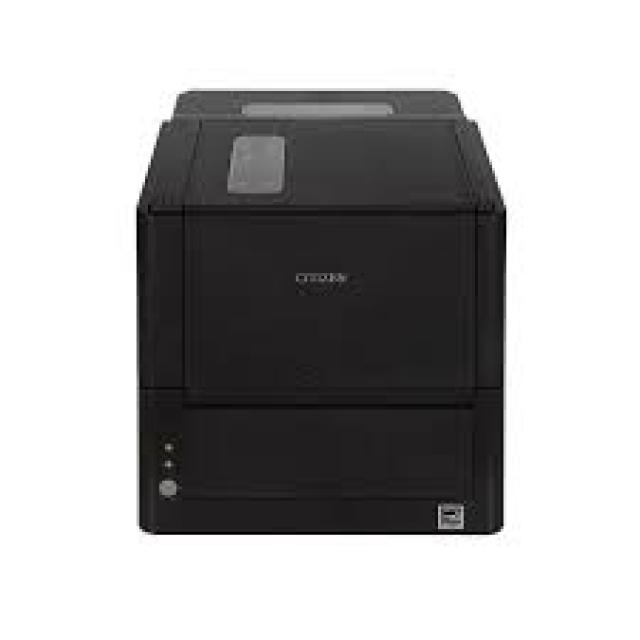printer: (134, 85, 506, 535)
